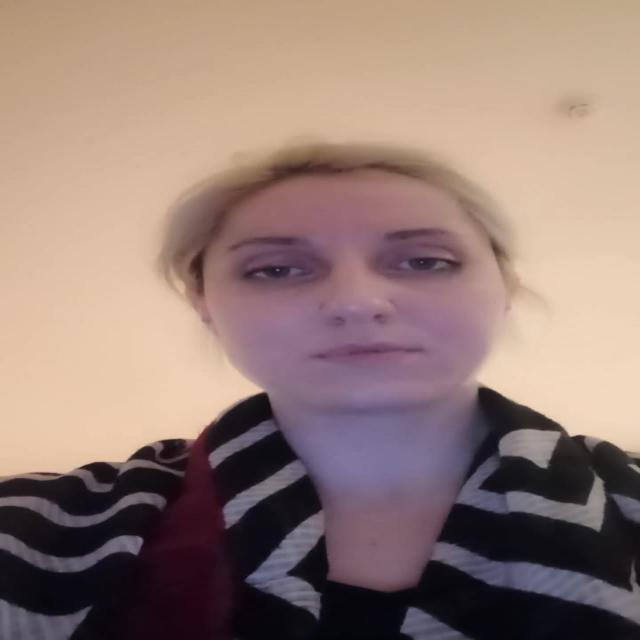eye: (244, 264, 312, 280), (392, 256, 454, 273)
nose: (321, 310, 399, 344)
